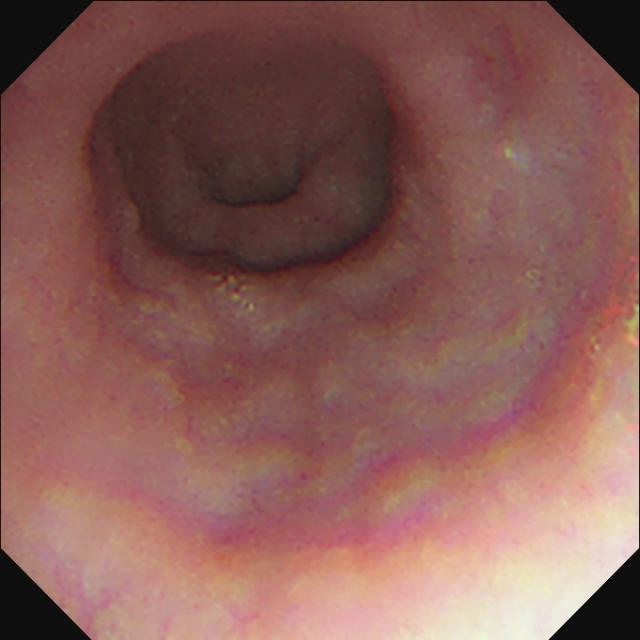E: (171, 103, 325, 224)
